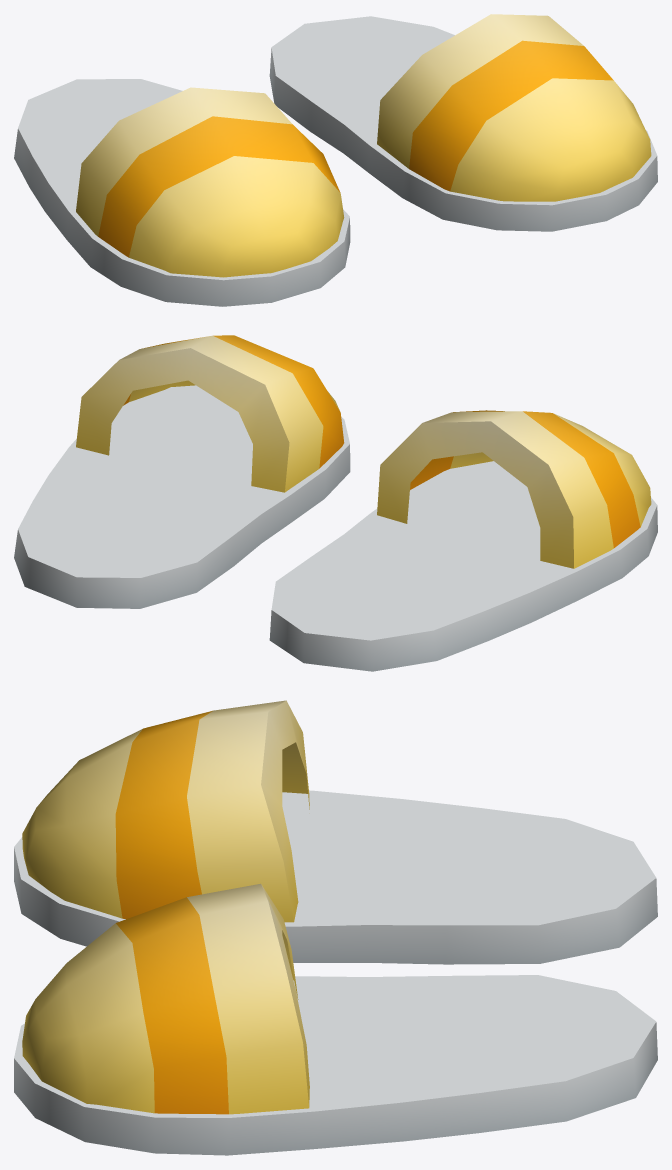
Rendered from Shoe_Slippers_03.glb.
The picture shows the model from 3 angles, top to bottom: view 1: azimuth 30°, elevation 25°; view 2: azimuth 150°, elevation 25°; view 3: azimuth 270°, elevation 25°; orthographic projection. The views are drawn at different scales.
Parts seen in each view (by area): view 1: Shoe_Slippers_03; view 2: Shoe_Slippers_03; view 3: Shoe_Slippers_03.
Part boxes in pixels (bbox=[...]): Shoe_Slippers_03: bbox=[14, 14, 657, 306]; Shoe_Slippers_03: bbox=[14, 335, 657, 671]; Shoe_Slippers_03: bbox=[14, 700, 657, 1155].
Size of the model in its own units: 0.262 by 0.0662 by 0.2123.
Materials: 1 (1 with a texture image).
